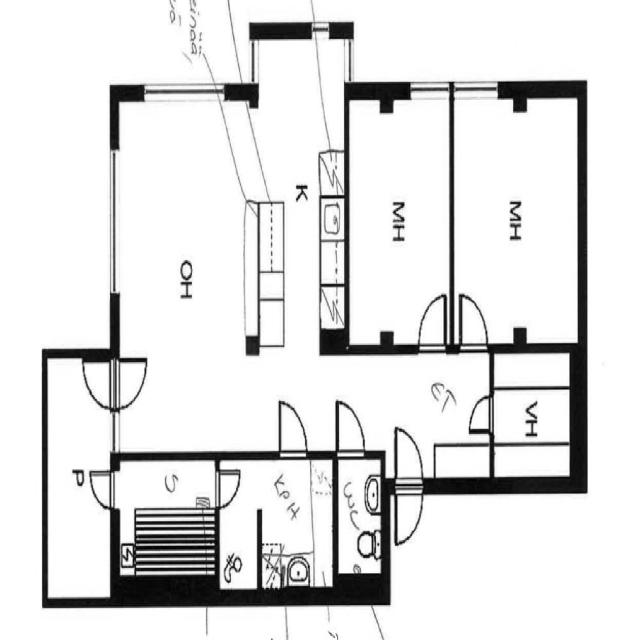door: (78, 421, 115, 544), (390, 425, 424, 549), (81, 354, 151, 413), (332, 393, 371, 459), (274, 394, 310, 460), (456, 288, 490, 353), (416, 288, 449, 351), (210, 459, 244, 512), (86, 461, 118, 513), (467, 390, 494, 435)
window: (399, 74, 494, 112), (138, 74, 228, 111), (102, 142, 122, 303), (447, 72, 505, 105), (402, 74, 454, 104), (340, 31, 358, 89), (307, 14, 336, 49)
zone: (114, 85, 260, 452), (256, 26, 346, 402), (450, 93, 582, 348), (346, 92, 452, 349), (46, 349, 114, 598), (218, 455, 337, 591), (118, 454, 218, 586), (492, 347, 576, 483), (338, 453, 383, 583)
